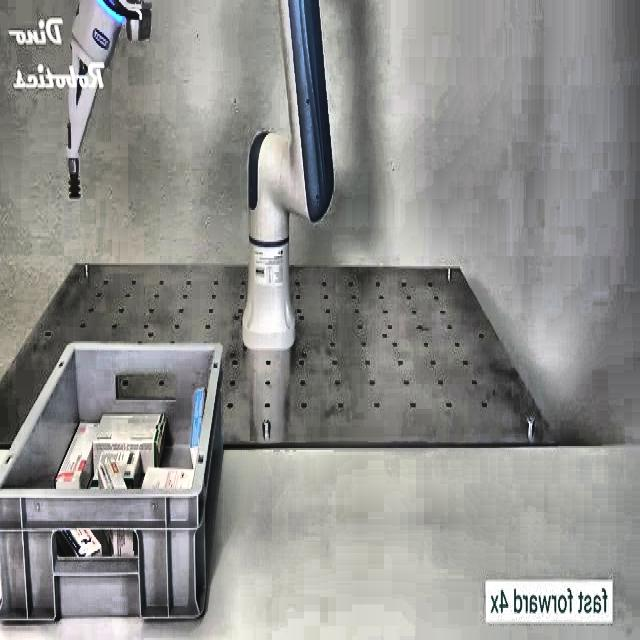robot: (66, 0, 335, 350)
